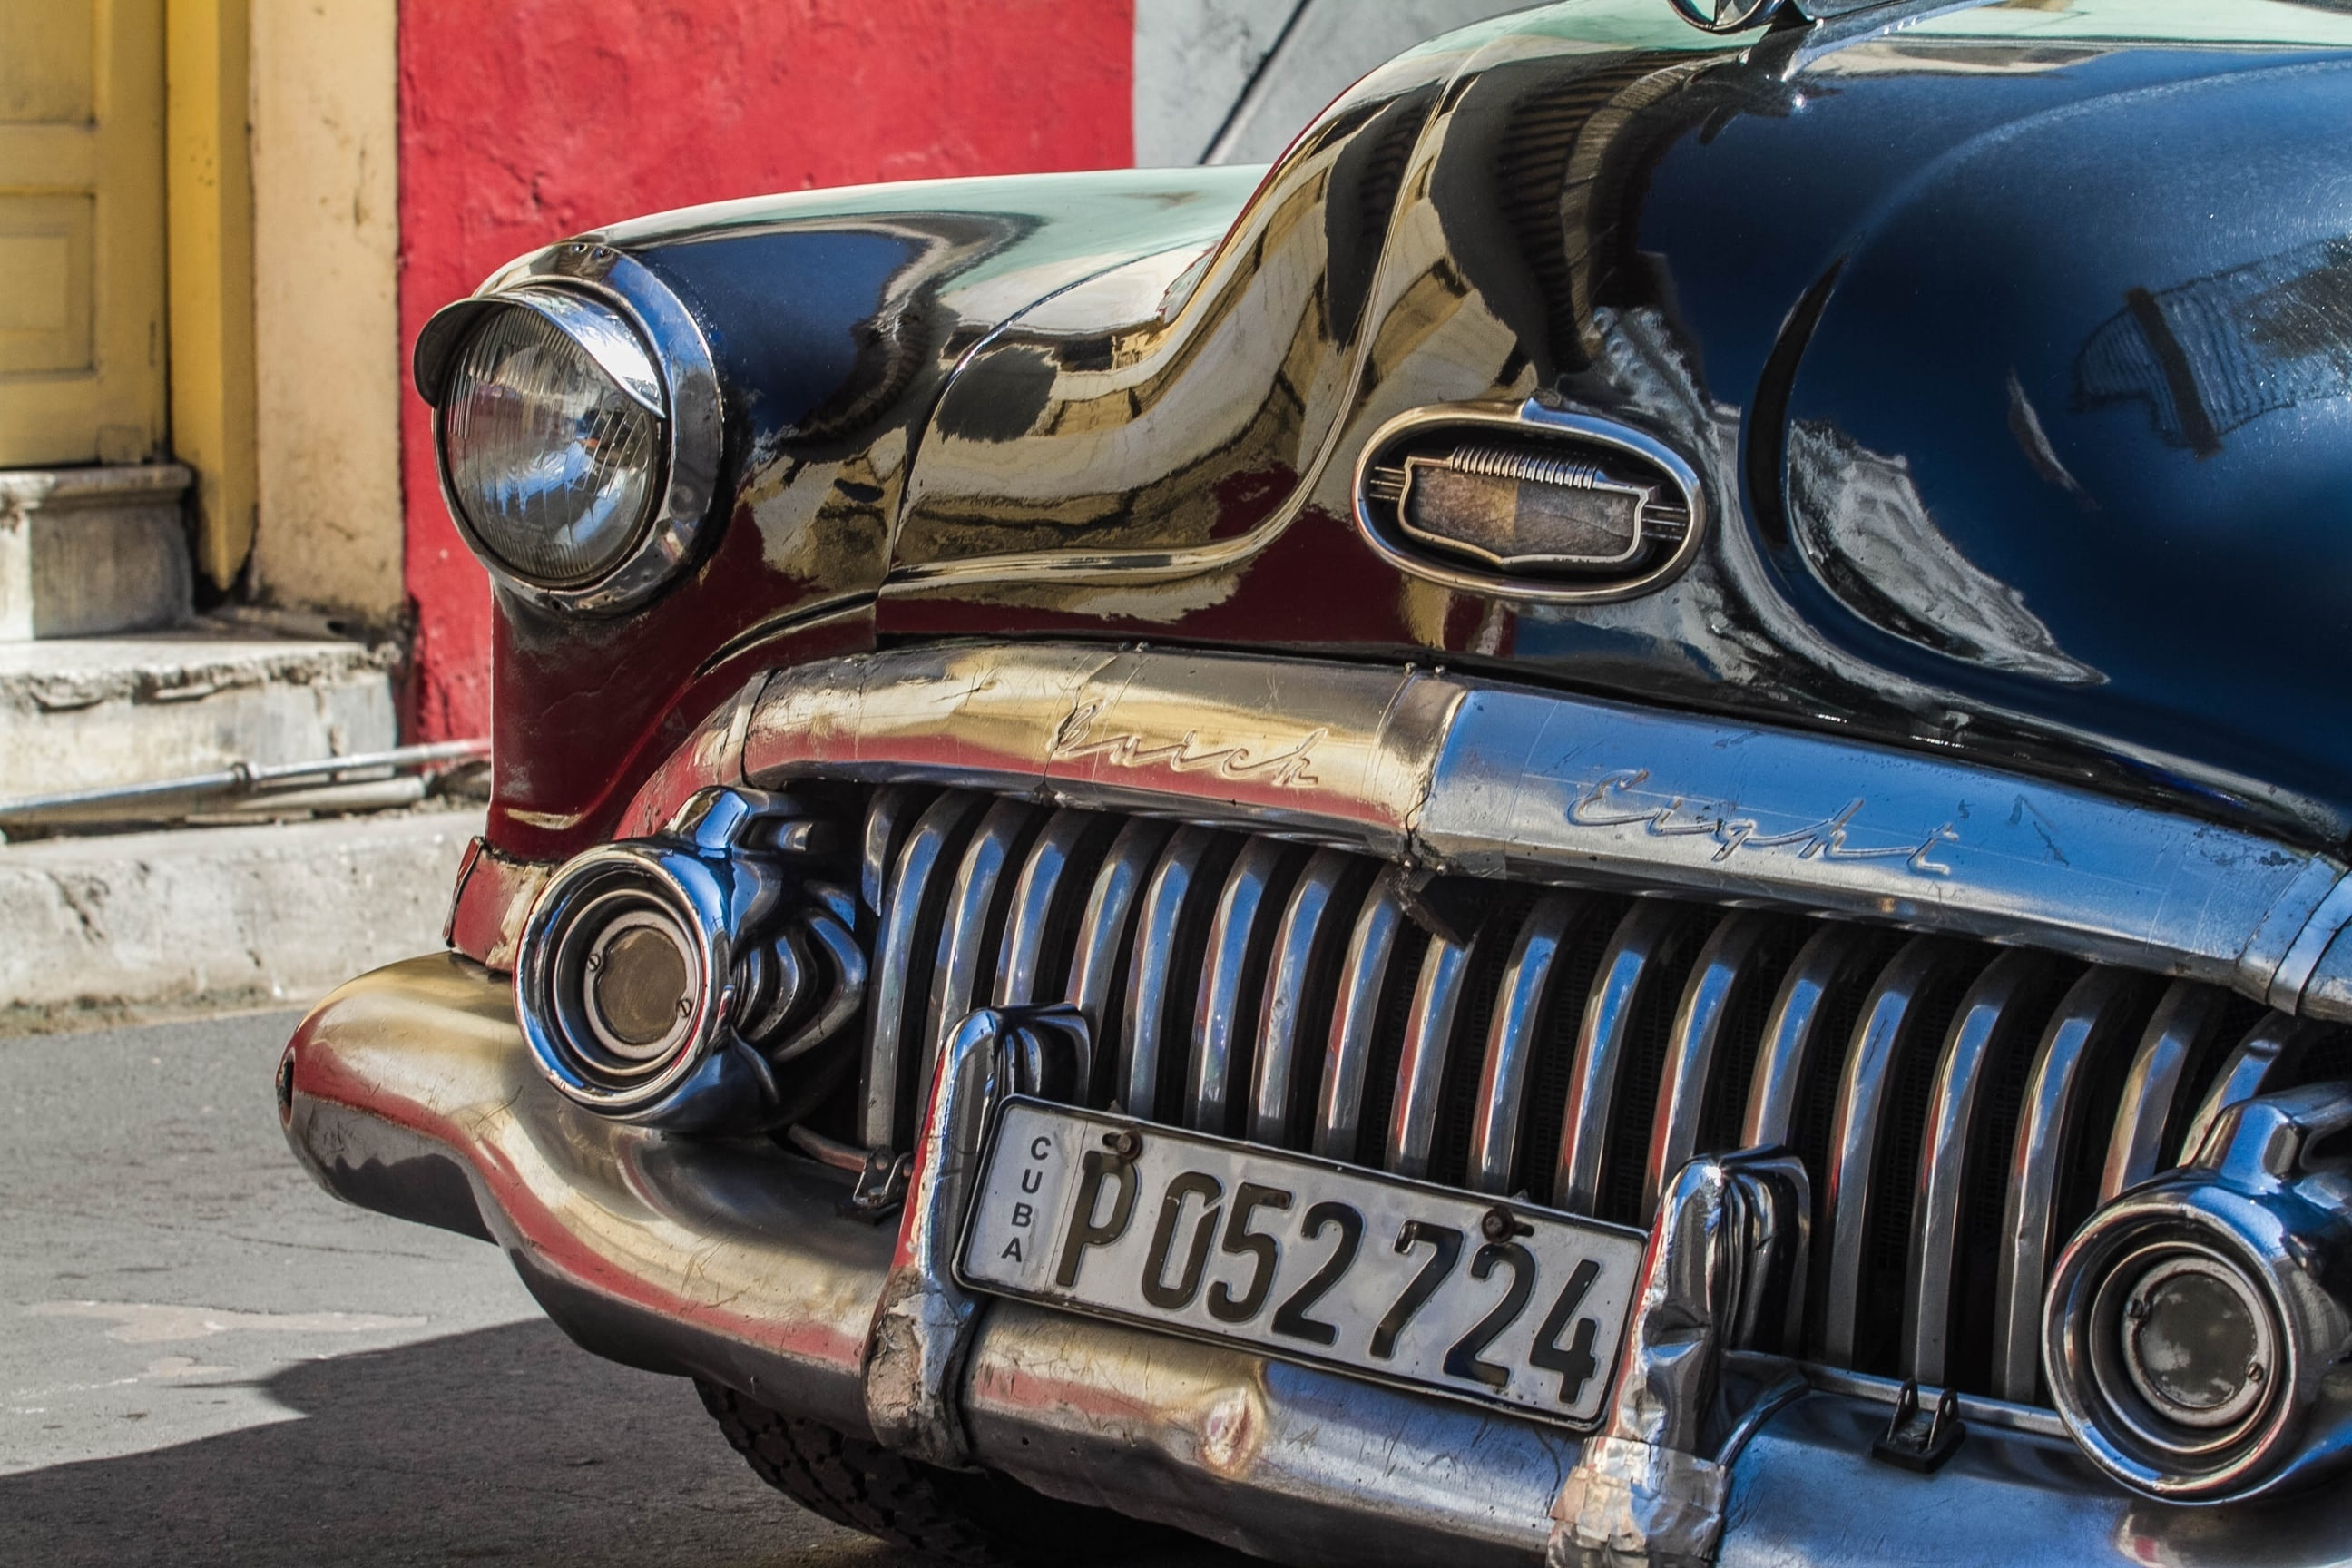plaka: (964, 1093, 1640, 1432)
